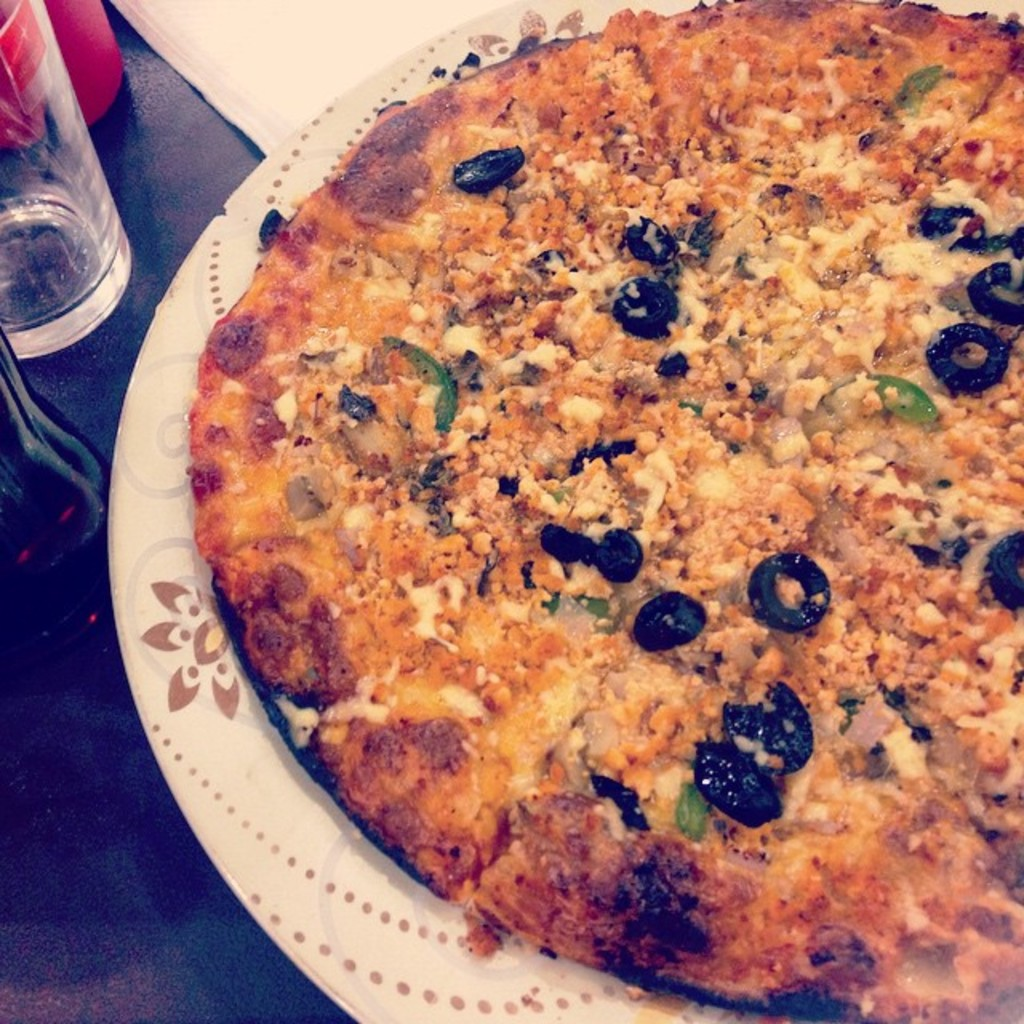Pizza: (129, 38, 960, 1008)
